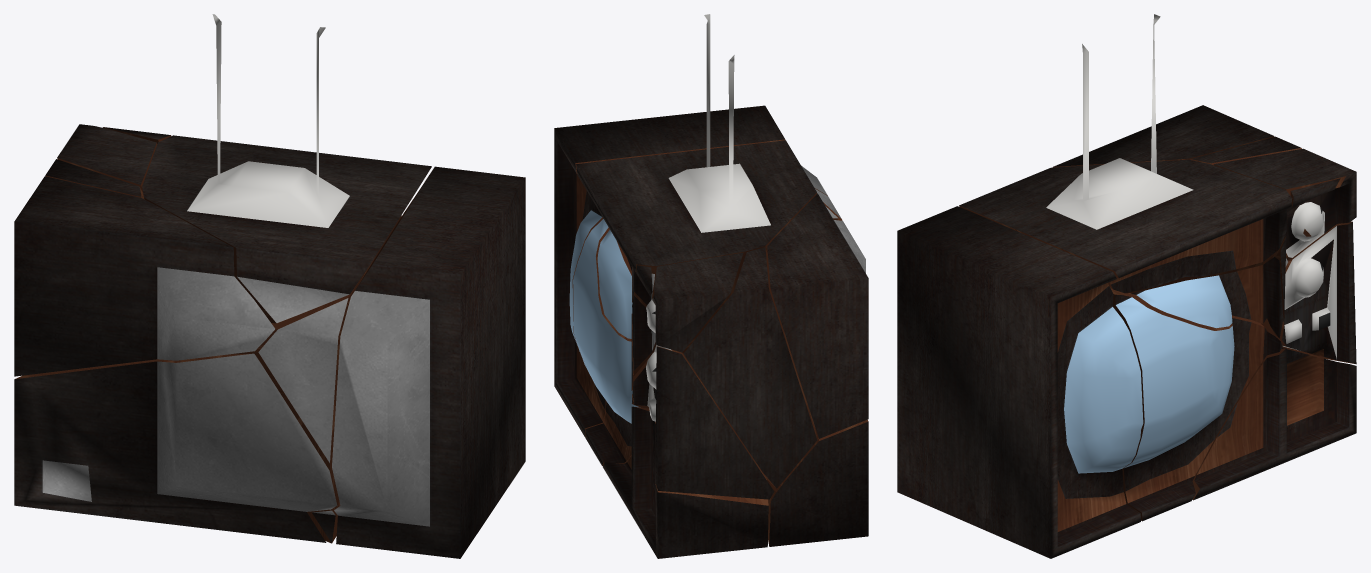
The model's file is FracturedTV.fbx.
3 views of the same model, side by side, from view 1: azimuth 30°, elevation 25°; view 2: azimuth 150°, elevation 25°; view 3: azimuth 270°, elevation 25° (orthographic). The views are drawn at different scales.
Visible parts, largest first — view 1: TVObject_cell.001, TVObject_cell.004, TVObject_cell.011, TVObject_cell.008, TVObject_cell.003, TVObject_cell.005, TVObject_cell.006; view 2: TVObject_cell.008, TVObject_cell.011, TVObject_cell.001, TVObject_cell.006, TVObject_cell.002, TVObject_cell.007, TVObject_cell.004, TVObject_cell.003, TVObject_cell.005, TVObject_cell.010, TVObject_cell; view 3: TVObject_cell.001, TVObject_cell.008, TVObject_cell.003, TVObject_cell.007, TVObject_cell.002, TVObject_cell.005, TVObject_cell.010, TVObject_cell.011, TVObject_cell.006, TVObject_cell.009.
Part boxes in pixels (x1,y1,x2,y2): TVObject_cell.001: [332, 166, 525, 558]; TVObject_cell.004: [14, 353, 337, 542]; TVObject_cell.011: [14, 176, 274, 376]; TVObject_cell.008: [142, 14, 431, 323]; TVObject_cell.003: [228, 215, 401, 543]; TVObject_cell.005: [57, 124, 157, 191]; TVObject_cell.006: [45, 159, 144, 199]; TVObject_cell.008: [576, 14, 838, 307]; TVObject_cell.011: [767, 193, 868, 438]; TVObject_cell.001: [554, 105, 827, 436]; TVObject_cell.006: [680, 247, 817, 488]; TVObject_cell.002: [632, 345, 774, 499]; TVObject_cell.007: [602, 406, 768, 558]; TVObject_cell.004: [767, 419, 868, 546]; TVObject_cell.003: [573, 189, 842, 465]; TVObject_cell.005: [646, 252, 743, 352]; TVObject_cell.010: [597, 230, 648, 390]; TVObject_cell: [632, 296, 656, 375]; TVObject_cell.001: [897, 206, 1143, 558]; TVObject_cell.008: [959, 14, 1292, 293]; TVObject_cell.003: [1111, 288, 1282, 521]; TVObject_cell.007: [1192, 347, 1356, 500]; TVObject_cell.002: [1261, 221, 1356, 364]; TVObject_cell.005: [1213, 148, 1356, 260]; TVObject_cell.010: [1130, 257, 1283, 338]; TVObject_cell.011: [1052, 105, 1274, 167]; TVObject_cell.006: [1190, 136, 1301, 165]; TVObject_cell.009: [1290, 178, 1340, 206].
Size of the model in its own units: 43.58 by 45.52 by 43.97.
